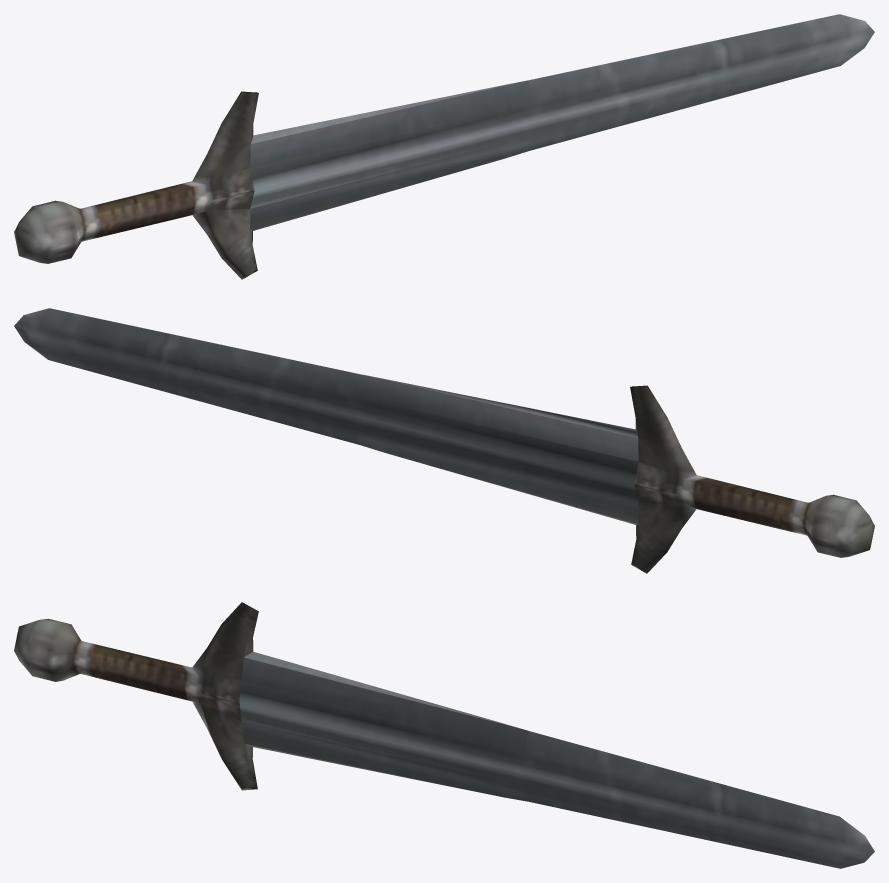
Rendered from class01_sword_000.FBX.
3 renders of one model, top to bottom at view 1: azimuth 30°, elevation 25°; view 2: azimuth 150°, elevation 25°; view 3: azimuth 330°, elevation 25°, orthographic.
Parts seen in each view (by area): view 1: sword; view 2: sword; view 3: sword.
Boxes of the visible parts, <box> form: sword: <box>14,14,874,279</box>; sword: <box>14,308,874,573</box>; sword: <box>14,602,874,868</box>.
Size of the model in its own units: 89.82 by 18.83 by 5.1.
Materials: 1 (1 with a texture image).
